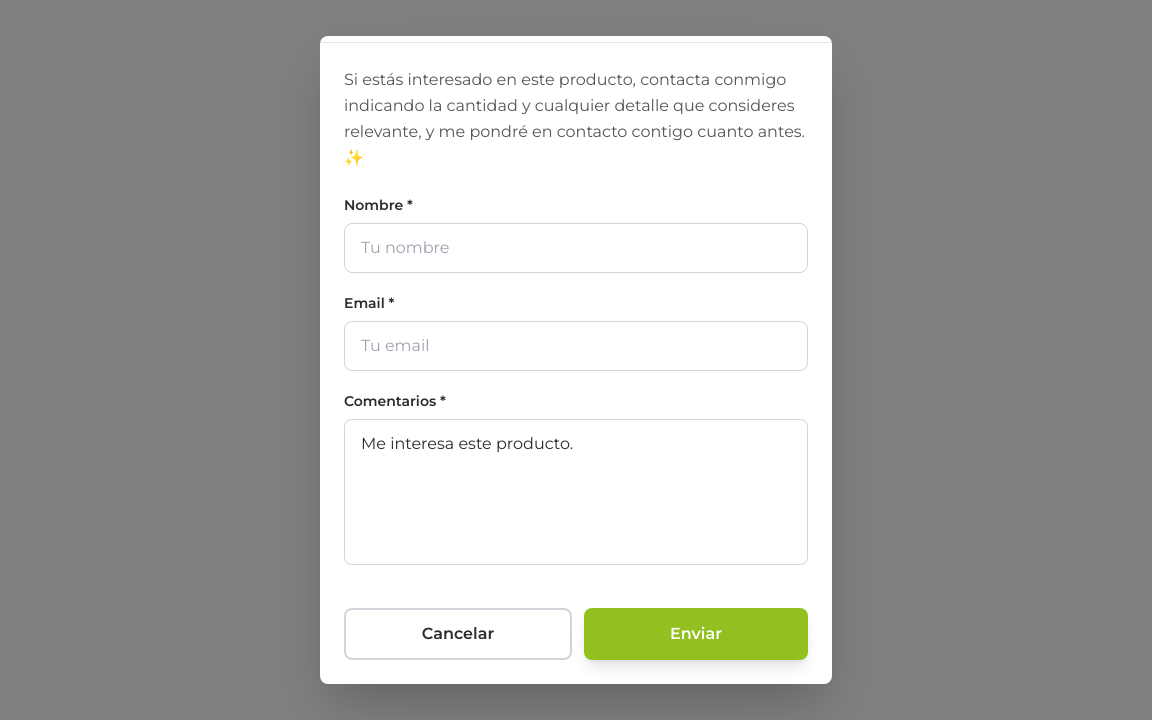
it: ContactModal › Validation › should clear error when user starts typing
(page scrolled)
Click the button "Enviar" at (696, 634), box x1=584 y1=608 x2=808 y2=660
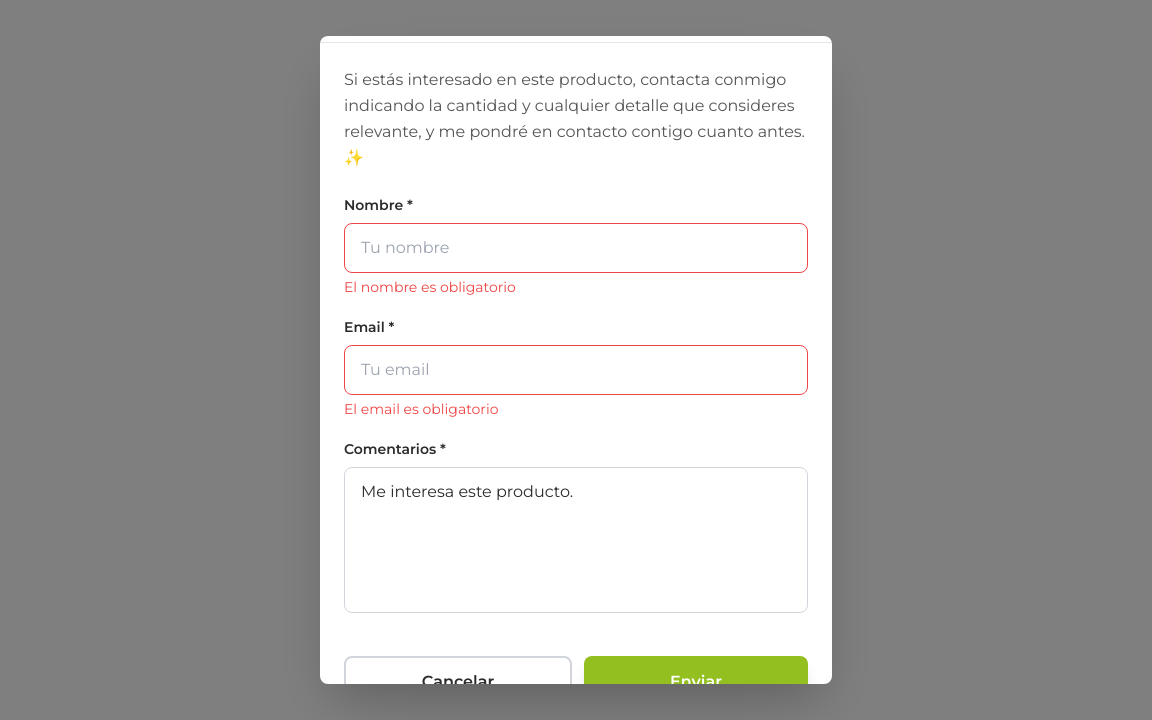
Now the text "El nombre es obligatorio" is shown, box x1=344 y1=278 x2=516 y2=296
Type "J" into the field labelled "Nombre *" at (576, 248), box x1=344 y1=223 x2=808 y2=273
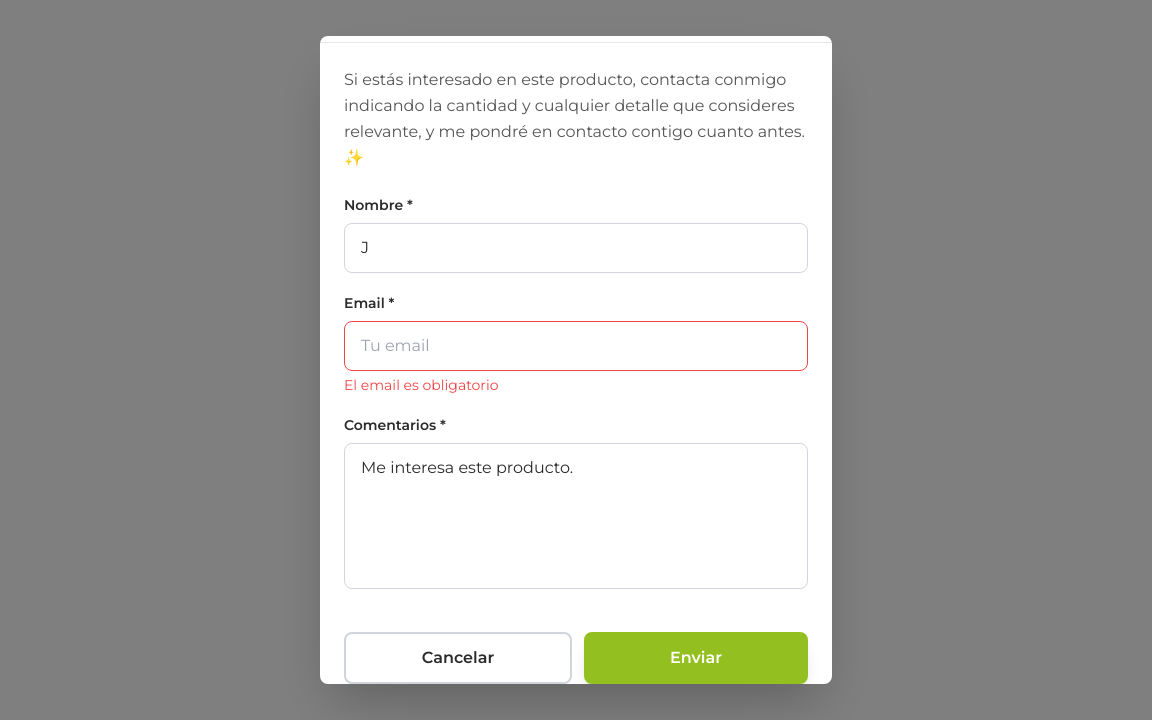
Now the text "El nombre es obligatorio" is gone
